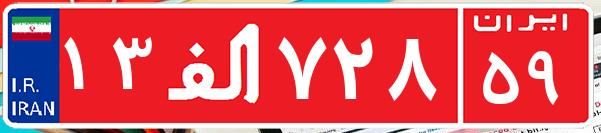1: (57, 26, 110, 107)
2: (330, 28, 385, 110)
3: (110, 28, 158, 105)
5: (475, 38, 525, 113)
7: (273, 28, 330, 110)
8: (385, 28, 445, 110)
9: (525, 38, 570, 115)
الف: (158, 15, 273, 115)
